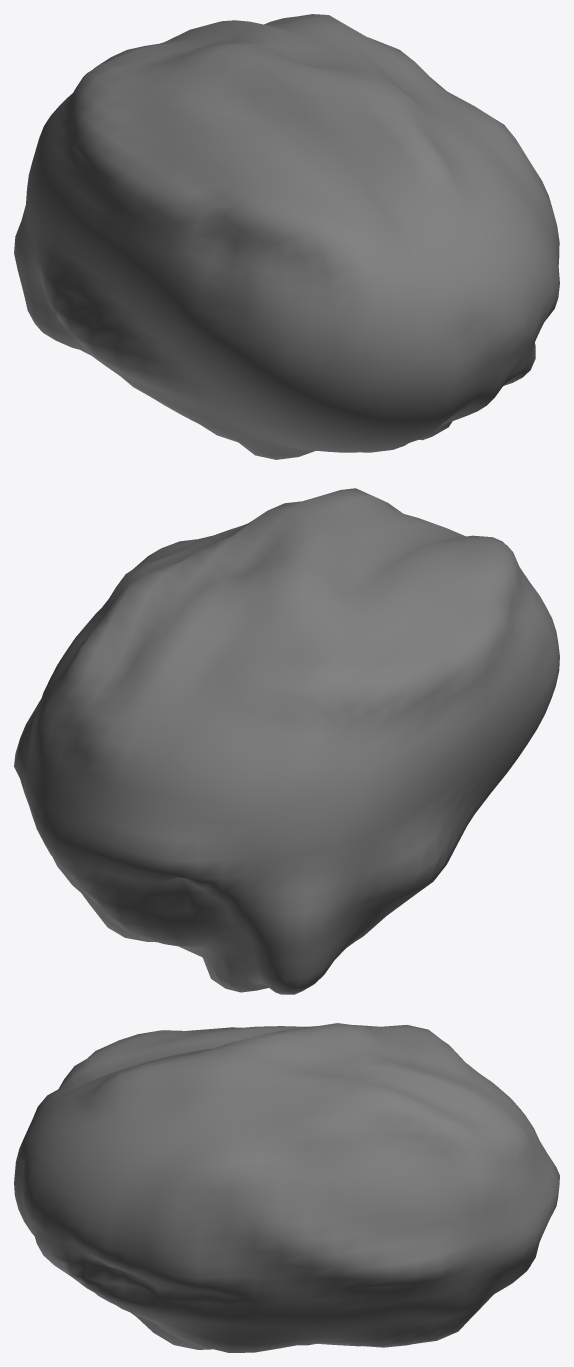
Rendered from meteorite.obj.
The picture shows the model from 3 angles, top to bottom: view 1: azimuth 30°, elevation 25°; view 2: azimuth 150°, elevation 25°; view 3: azimuth 270°, elevation 25°; orthographic projection. The views are drawn at different scales.
Parts seen in each view (by area): view 1: Cube.001; view 2: Cube.001; view 3: Cube.001.
Boxes of the visible parts, <box> form: Cube.001: <box>14,14,559,459</box>; Cube.001: <box>14,488,559,994</box>; Cube.001: <box>14,1023,559,1352</box>.
Size of the model in its own units: 1.58 by 1.45 by 2.32.
1 material, 1 textured.
